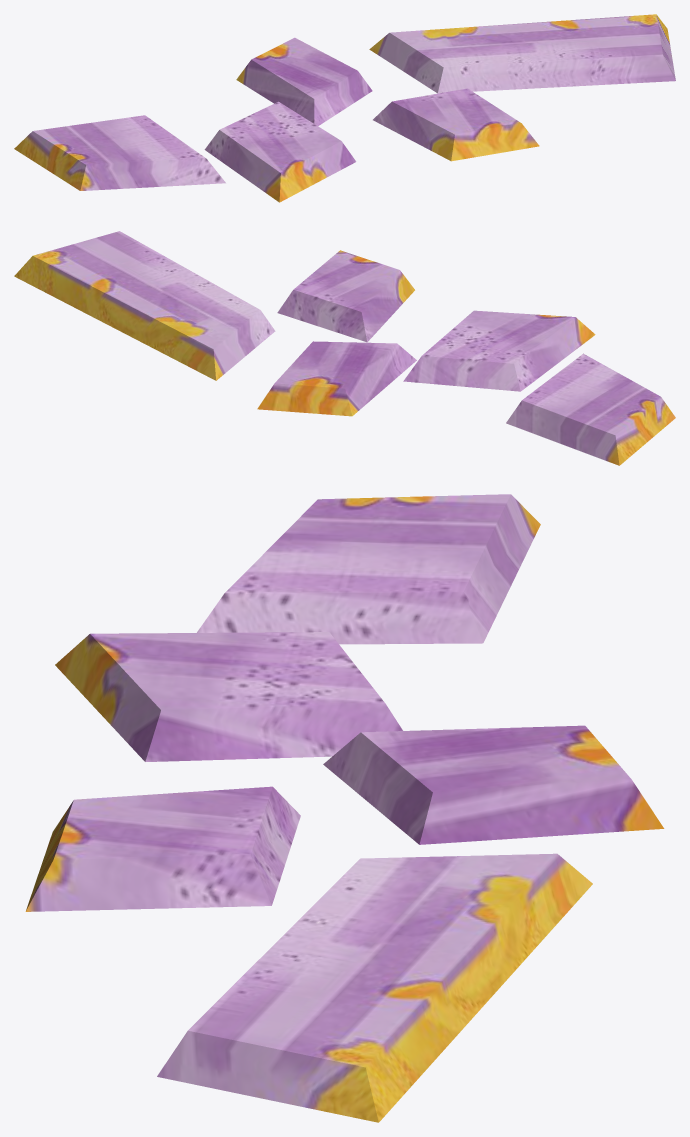
Rendered from entity28952n.gltf.
3 views of the same model, one above another, from view 1: azimuth 30°, elevation 25°; view 2: azimuth 150°, elevation 25°; view 3: azimuth 270°, elevation 25° (orthographic). The views are drawn at different scales.
Visible parts, largest first — view 1: node_Path_02; view 2: node_Path_02; view 3: node_Path_02.
Part boxes in pixels (box(x1,y1,x2,y2)): node_Path_02: box(14, 14, 675, 202); node_Path_02: box(14, 231, 675, 465); node_Path_02: box(25, 494, 664, 1122).
Size of what is drawn, in the model's own units: 6.47 by 0.2079 by 2.92.
